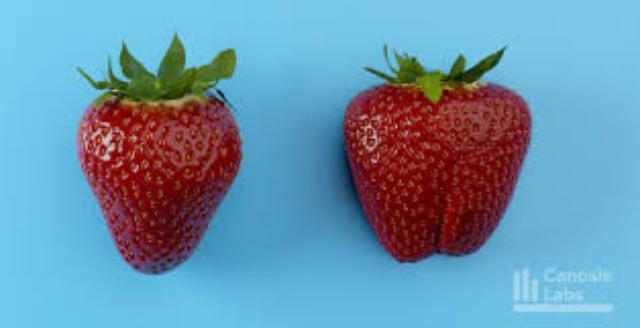Strawberries: (343, 56, 533, 262), (76, 60, 242, 274)
